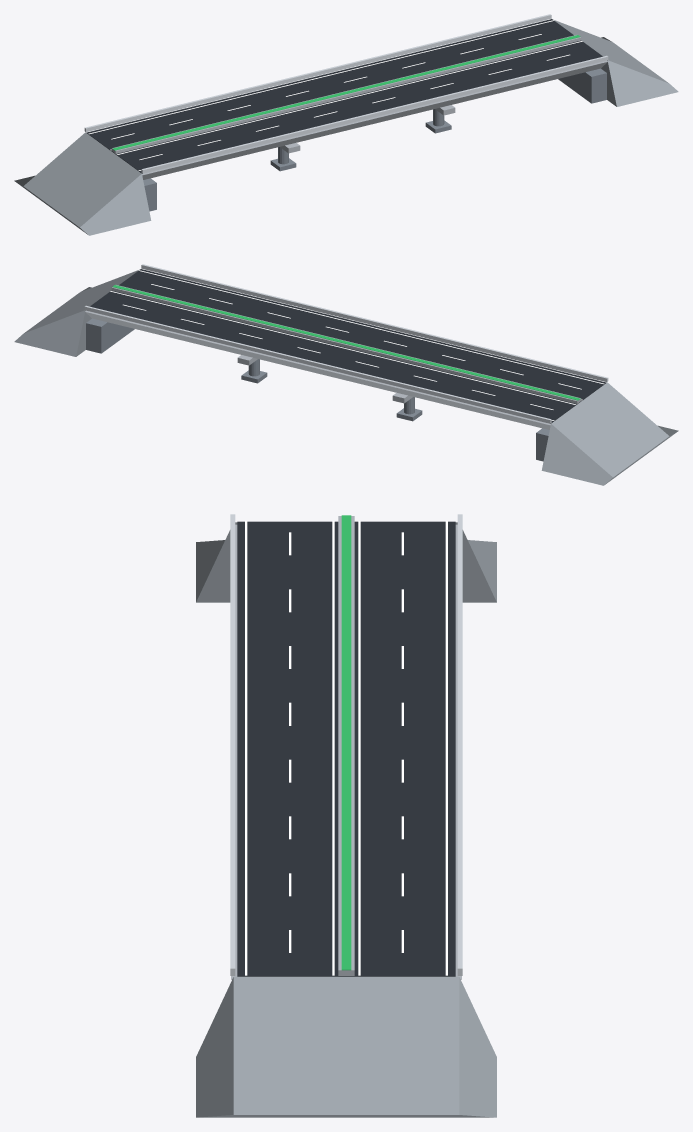
Rendered from bridge-medium.glb.
The picture shows the model from 3 angles, top to bottom: view 1: azimuth 30°, elevation 25°; view 2: azimuth 150°, elevation 25°; view 3: azimuth 270°, elevation 25°; orthographic projection. The views are drawn at different scales.
Visible parts, largest first — view 1: BridgeAsphalt, ApproachL, BoxGirder, ApproachR, Deck_RailR, Deck_RailL, Deck_MedianCurb, Deck_MedianGreen, AbutmentR, Deck_SolidLine_3, Deck_SolidLine_1, Deck_DashedLines; view 2: BridgeAsphalt, ApproachL, BoxGirder, ApproachR, Deck_RailL, Deck_RailR, Deck_MedianCurb, Deck_MedianGreen, AbutmentR, Deck_SolidLine_0, Deck_SolidLine_2, Deck_DashedLines; view 3: BridgeAsphalt, ApproachR, Deck_MedianGreen, ApproachL, Deck_MedianCurb, Deck_RailL, Deck_RailR, BoxGirder, Deck_SolidLine_0, Deck_SolidLine_1, Deck_SolidLine_2, Deck_SolidLine_3 (+1 smaller).
Boxes of the visible parts, x1,y1,x2,y2 form: BridgeAsphalt: (86, 19, 602, 173); ApproachL: (14, 132, 151, 235); BoxGirder: (142, 60, 607, 179); ApproachR: (553, 19, 678, 106); Deck_RailR: (141, 55, 608, 173); Deck_RailL: (84, 14, 551, 131); Deck_MedianCurb: (111, 35, 581, 153); Deck_MedianGreen: (112, 35, 580, 150); AbutmentR: (558, 68, 606, 103); Deck_SolidLine_3: (88, 20, 554, 134); Deck_SolidLine_1: (117, 41, 582, 154); Deck_DashedLines: (111, 34, 569, 159); BridgeAsphalt: (90, 269, 606, 423); ApproachL: (541, 382, 678, 485); BoxGirder: (85, 310, 550, 429); ApproachR: (14, 269, 139, 356); Deck_RailL: (84, 305, 551, 423); Deck_RailR: (141, 264, 608, 381); Deck_MedianCurb: (111, 285, 581, 403); Deck_MedianGreen: (112, 285, 580, 400); AbutmentR: (86, 318, 134, 353); Deck_SolidLine_0: (138, 270, 604, 384); Deck_SolidLine_2: (110, 291, 575, 404); Deck_DashedLines: (123, 284, 581, 409); BridgeAsphalt: (237, 521, 455, 976); ApproachR: (196, 976, 496, 1117); Deck_MedianGreen: (341, 515, 351, 970); ApproachL: (196, 522, 496, 602); Deck_MedianCurb: (338, 516, 354, 975); Deck_RailL: (457, 514, 462, 975); Deck_RailR: (230, 514, 235, 975); BoxGirder: (231, 524, 461, 979); Deck_SolidLine_0: (245, 521, 247, 975); Deck_SolidLine_1: (332, 521, 334, 975); Deck_SolidLine_2: (358, 521, 360, 975); Deck_SolidLine_3: (445, 521, 447, 975).
Bounding box in the file's own units: 152 × 10.9 × 33.6.
